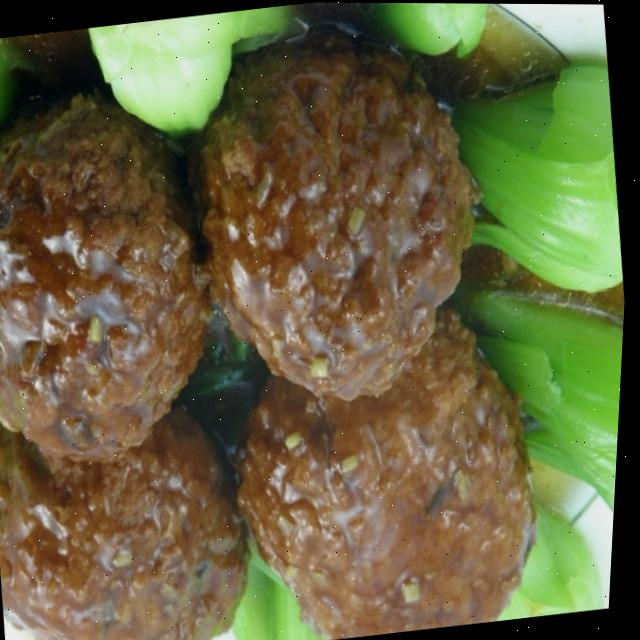猪肉菜式: (0, 23, 571, 640)
